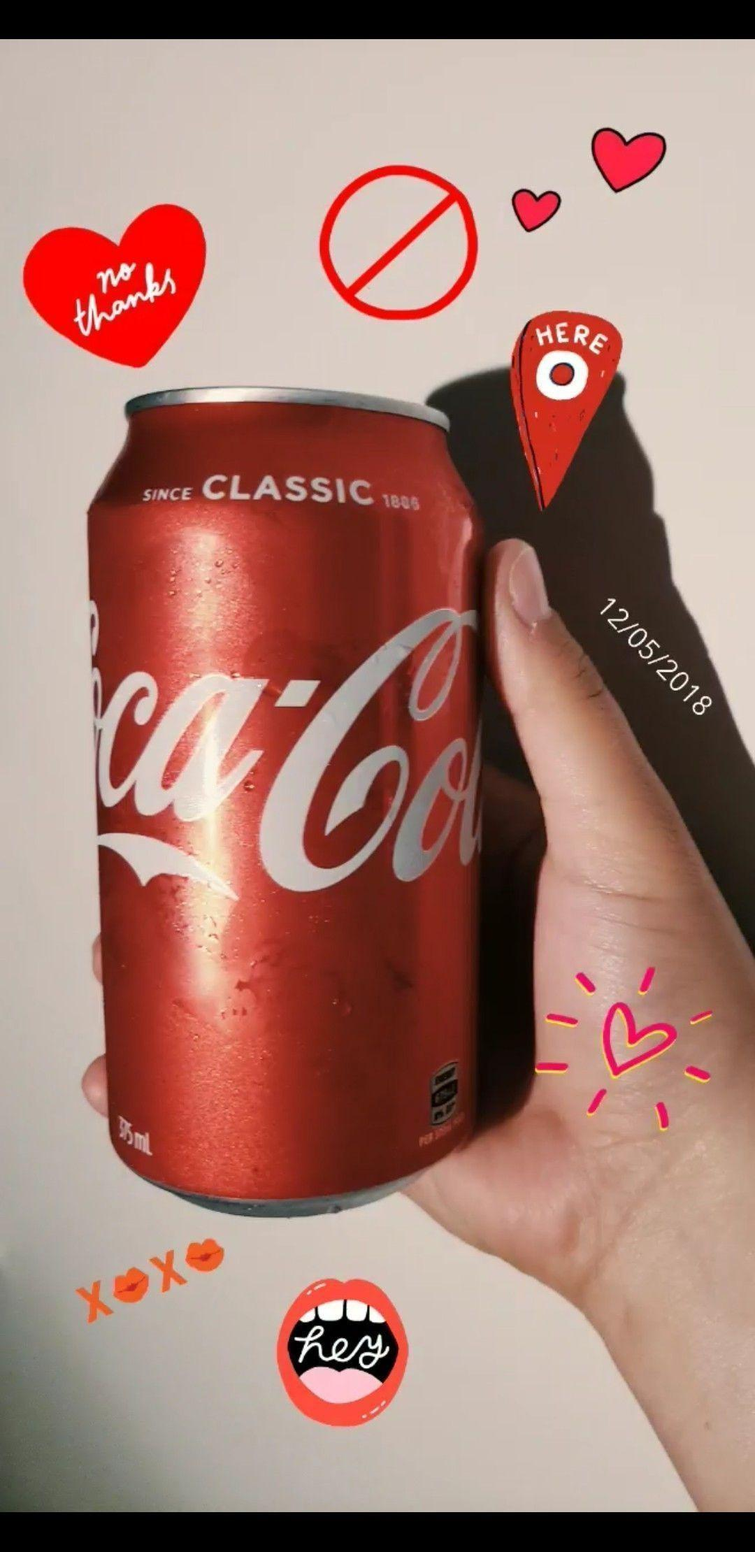tin can: (74, 378, 503, 1222)
